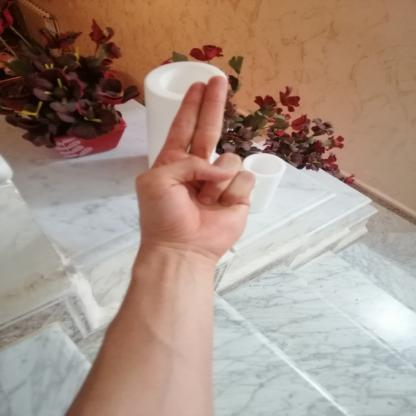TA: (122, 64, 272, 262)
